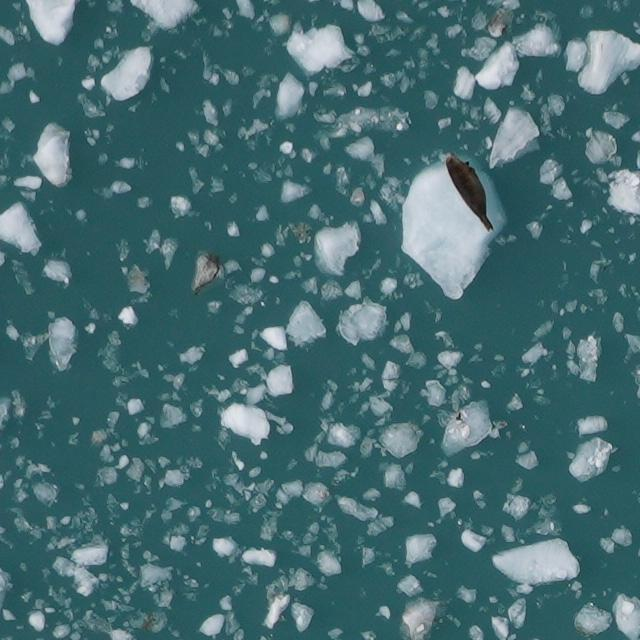seal: (444, 152, 493, 231)
